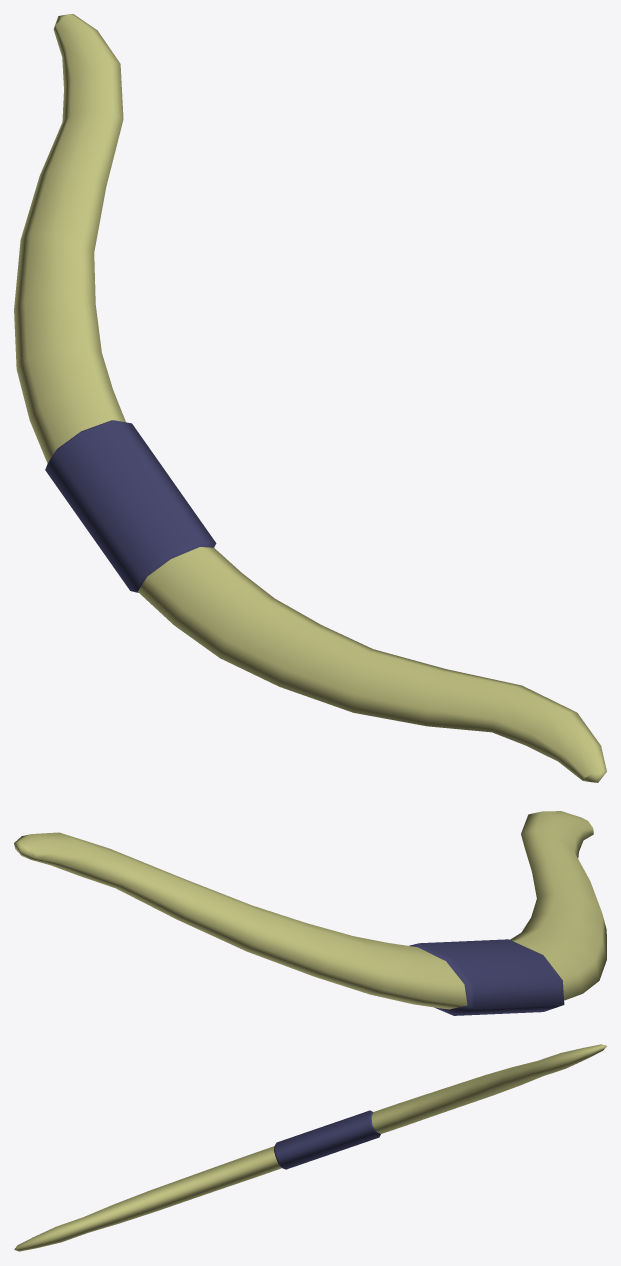
Rendered from ArqueroArco_SB1.fbx.
The picture shows the model from 3 angles, top to bottom: view 1: azimuth 30°, elevation 25°; view 2: azimuth 150°, elevation 25°; view 3: azimuth 270°, elevation 25°; orthographic projection. The views are drawn at different scales.
Visible parts, largest first — view 1: ArqueroArco_SB1; view 2: ArqueroArco_SB1; view 3: ArqueroArco_SB1.
Part boxes in pixels (x1,y1,x2,y2): ArqueroArco_SB1: (14, 14, 606, 782); ArqueroArco_SB1: (14, 811, 606, 1015); ArqueroArco_SB1: (14, 1044, 606, 1251).
Bounding box in the file's own units: 15.36 × 23.03 × 59.61.
